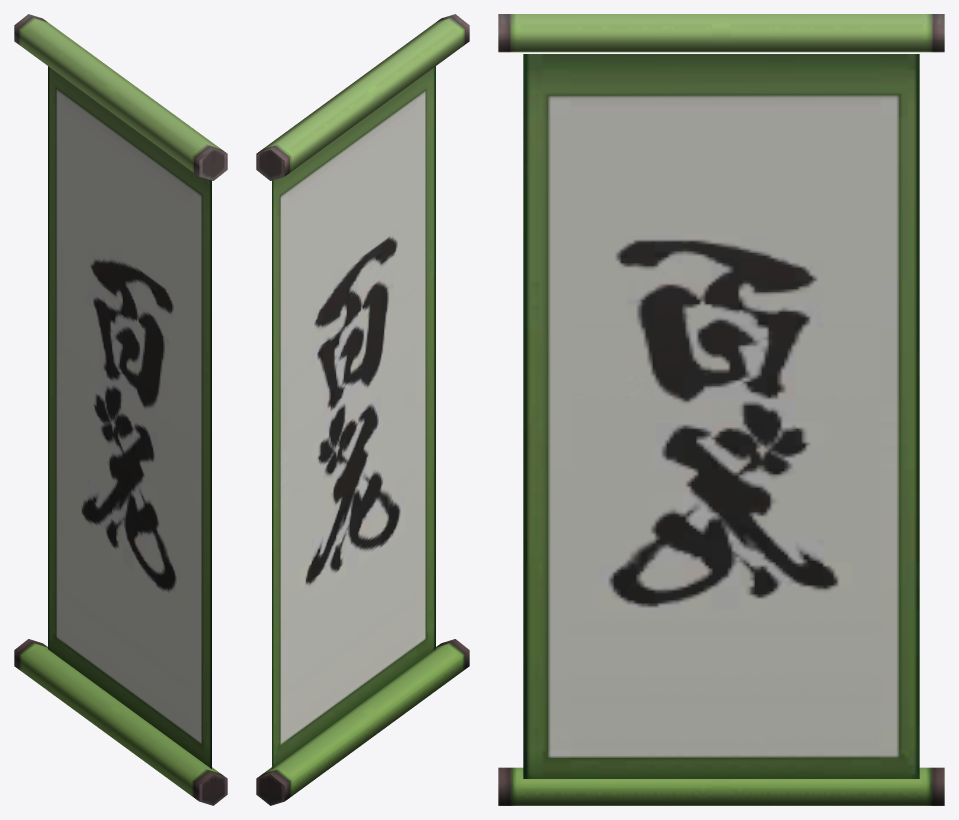
File: my_hyakkiyako_01_wallacc_01.glb
The picture shows the model from 3 angles, left to right: view 1: azimuth 30°, elevation 25°; view 2: azimuth 150°, elevation 25°; view 3: azimuth 270°, elevation 25°; orthographic projection. The views are drawn at different scales.
Parts seen in each view (by area): view 1: my_hyakkiyako_01_wallacc_01; view 2: my_hyakkiyako_01_wallacc_01; view 3: my_hyakkiyako_01_wallacc_01.
Boxes of the visible parts, x1=… form: my_hyakkiyako_01_wallacc_01: x1=14, y1=14, x2=227, y2=805; my_hyakkiyako_01_wallacc_01: x1=256, y1=14, x2=469, y2=805; my_hyakkiyako_01_wallacc_01: x1=498, y1=14, x2=944, y2=805.
Size of the model in its own units: 0.000523 by 0.0115 by 0.00585.
Materials: 1 (1 with a texture image).
